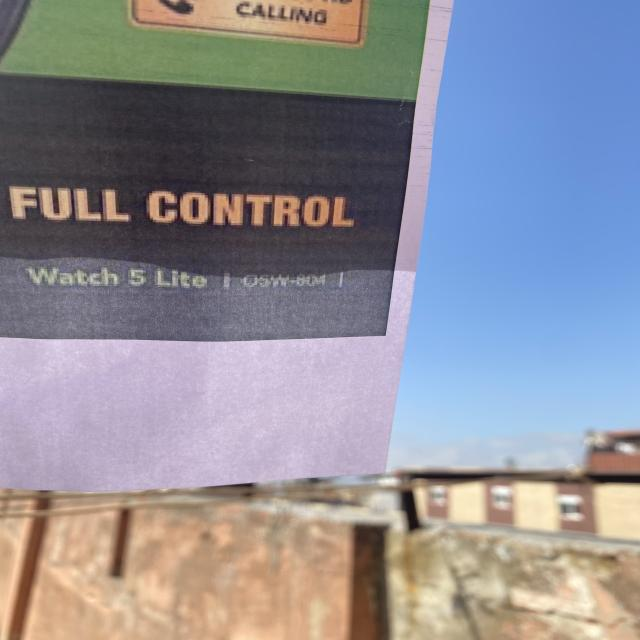Watch 5 Lite OSW-804: (18, 256, 355, 300)
